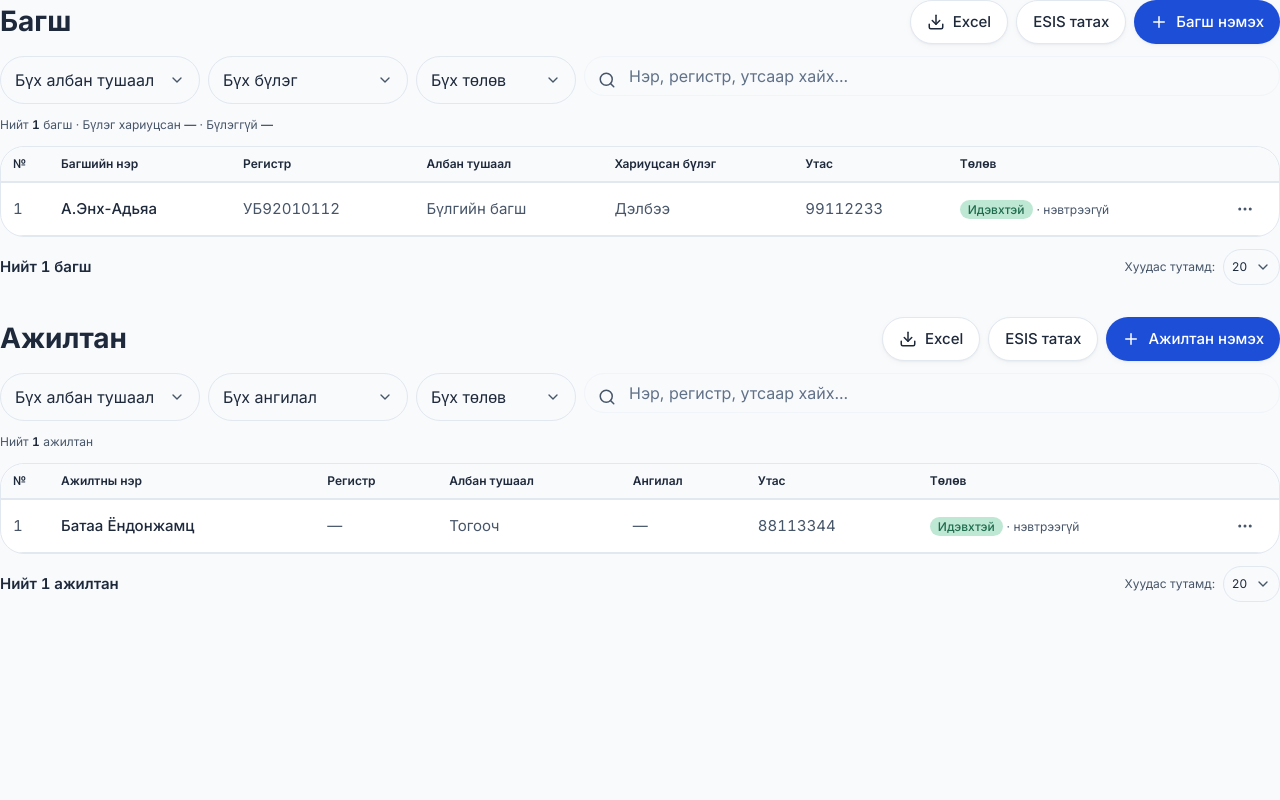
Test: the staff directory › hands over a one-time reset link, or the server's reason it may not
Click the button named "Анхбаяр Энх-Адьяа — үйлдэл" at (1245, 209), box [1223,187,1267,231]
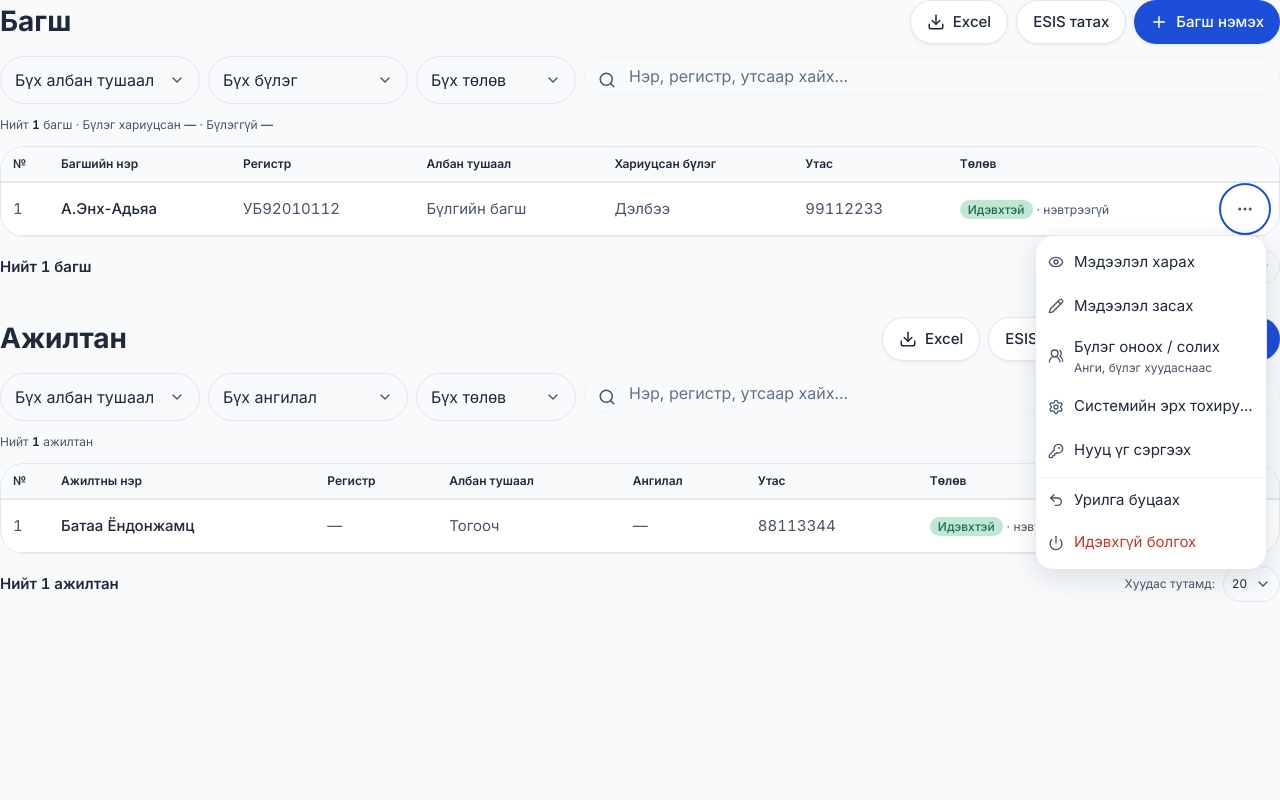
Click the menu item "Нууц үг сэргээх" at (1151, 450), box [1036,428,1266,472]
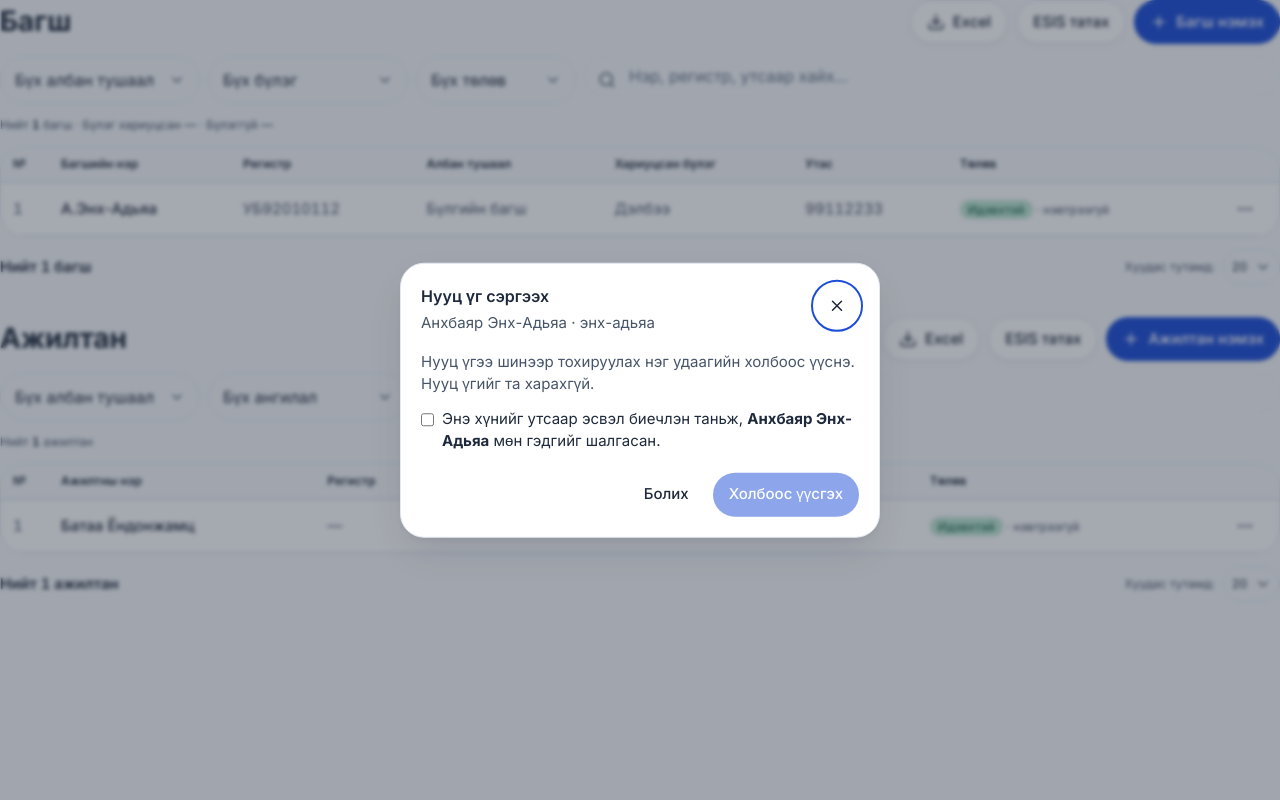
Expected: the button "Холбоос үүсгэх" is disabled, [713,472,859,516]
Click the checkbox labelled "мөн гэдгийг шалгасан" at (428, 419), box [421,411,434,427]
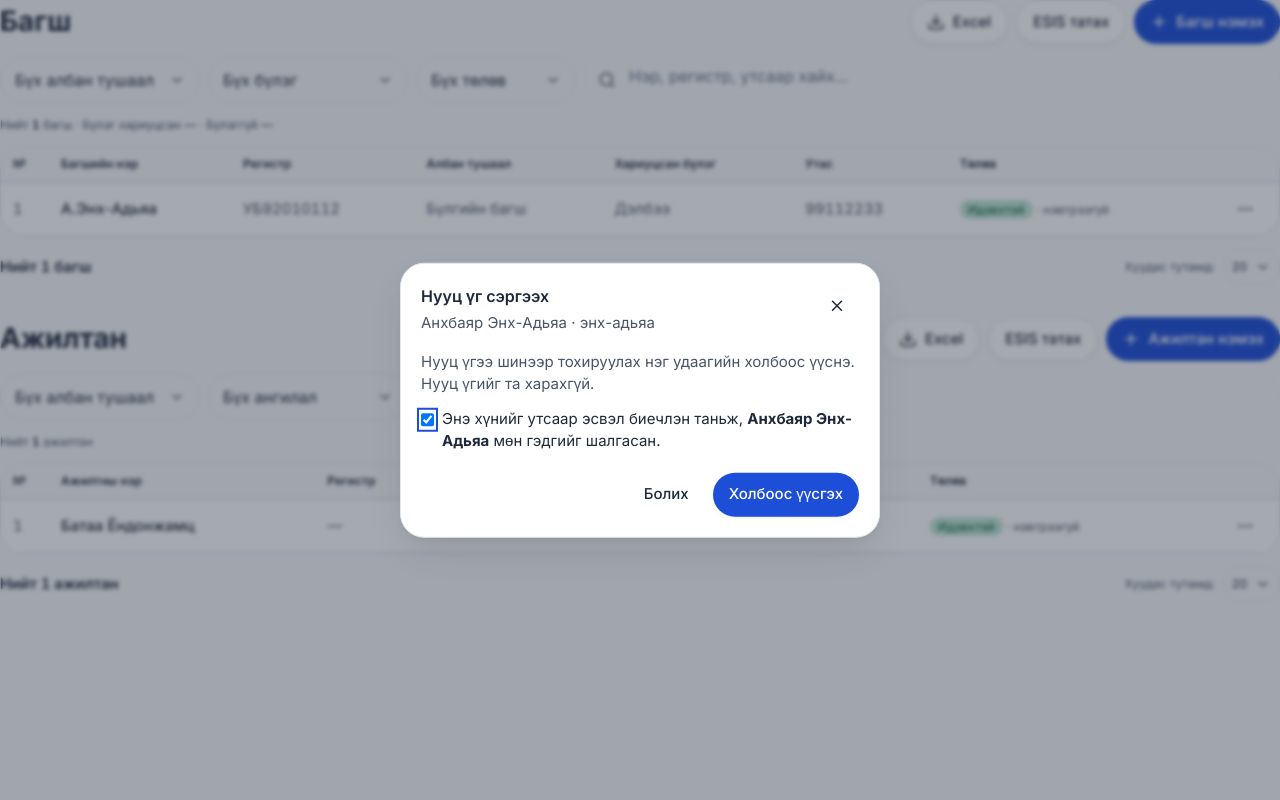
Click the button "Холбоос үүсгэх" at (786, 494), box [713,472,859,516]
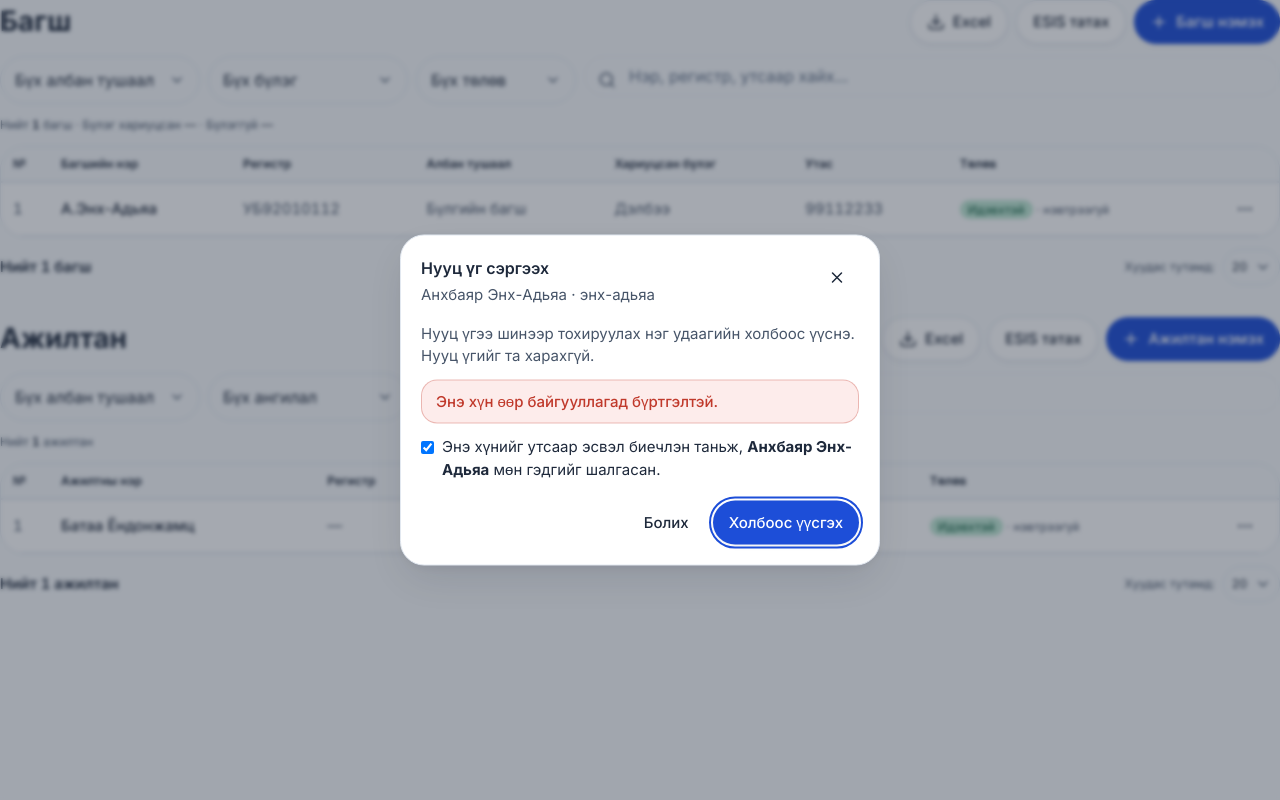
Expected: the text "Энэ хүн өөр байгууллагад бүртгэлтэй." is shown, [421,379,859,424]
